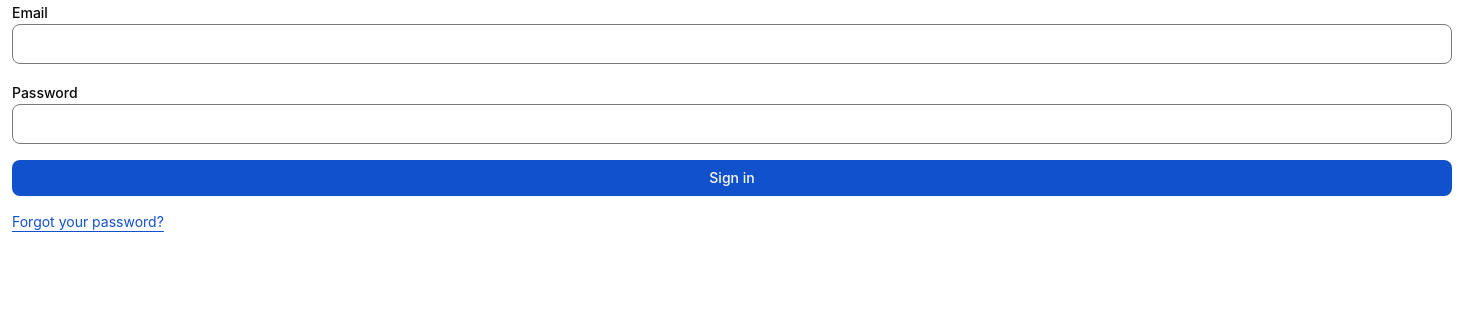
Test: SignInForm › shows a rate-limit message with the seconds
The image size is (1464, 311).
Step 1. Type "a@example.com" into the field labelled "Email" → (732, 44), box [12, 24, 1452, 64]
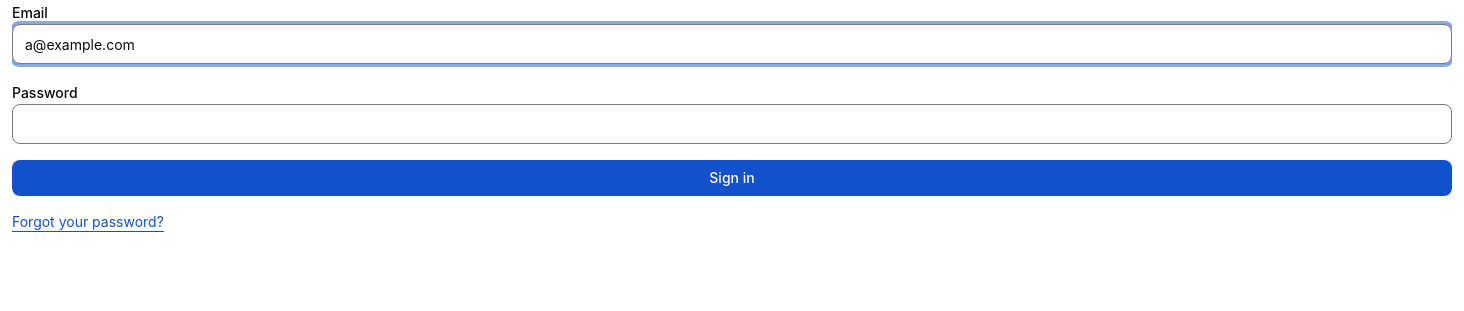
Step 2. Type "x" into the password field labelled "Password" → (732, 124), box [12, 104, 1452, 144]
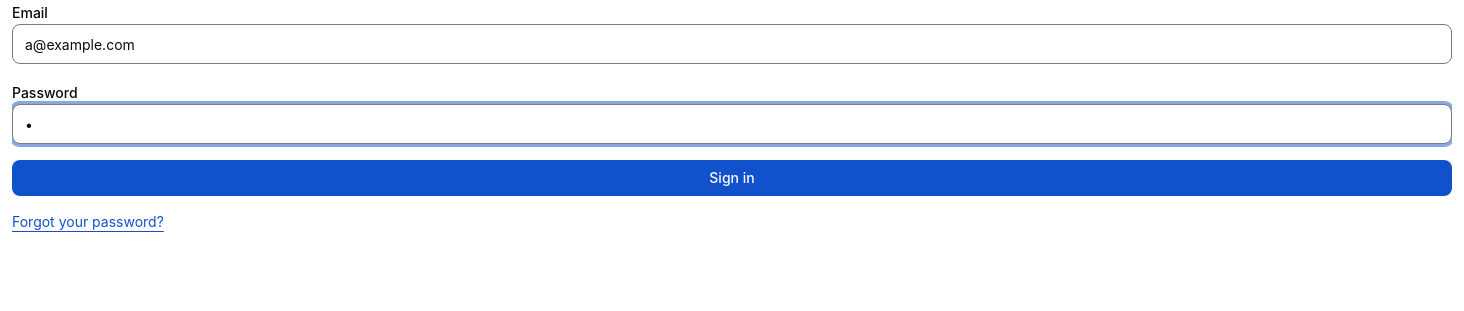
Step 3. Click the button "Sign in" → (732, 178), box [12, 160, 1452, 196]
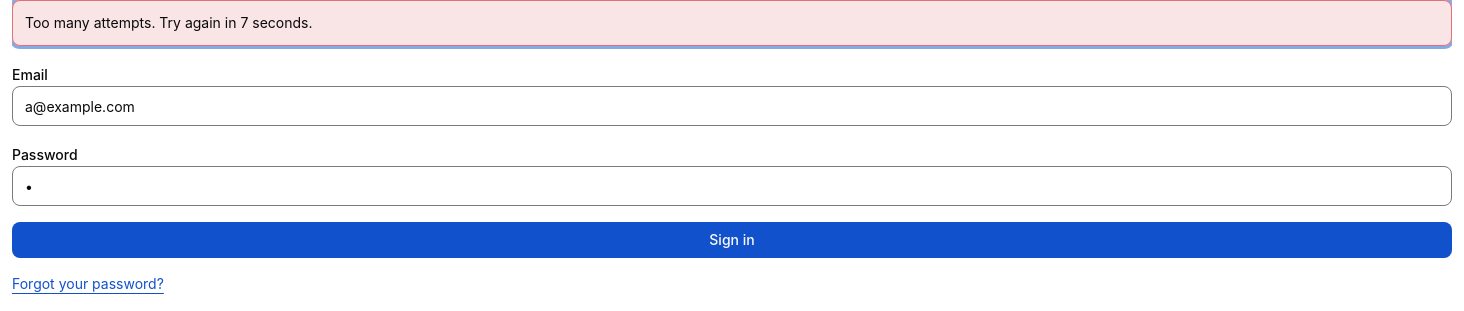
Expected: the message shows "Try again in 7 seconds.", [25, 14, 312, 31]
